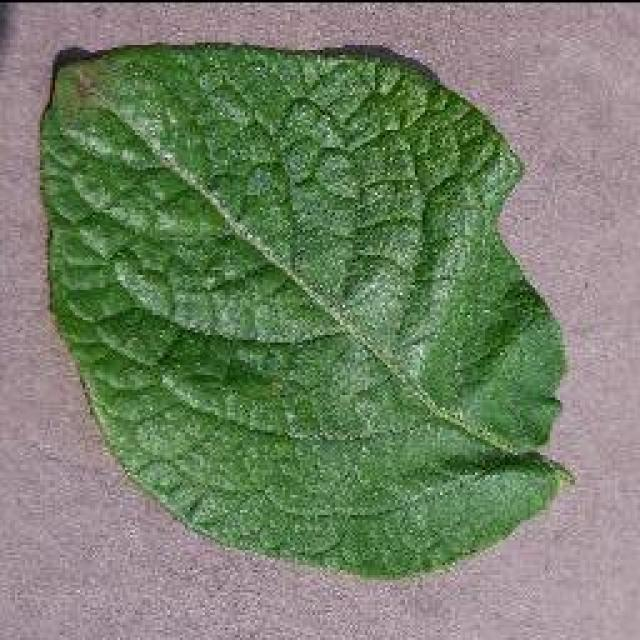Potato___healthy: (42, 40, 572, 581)
